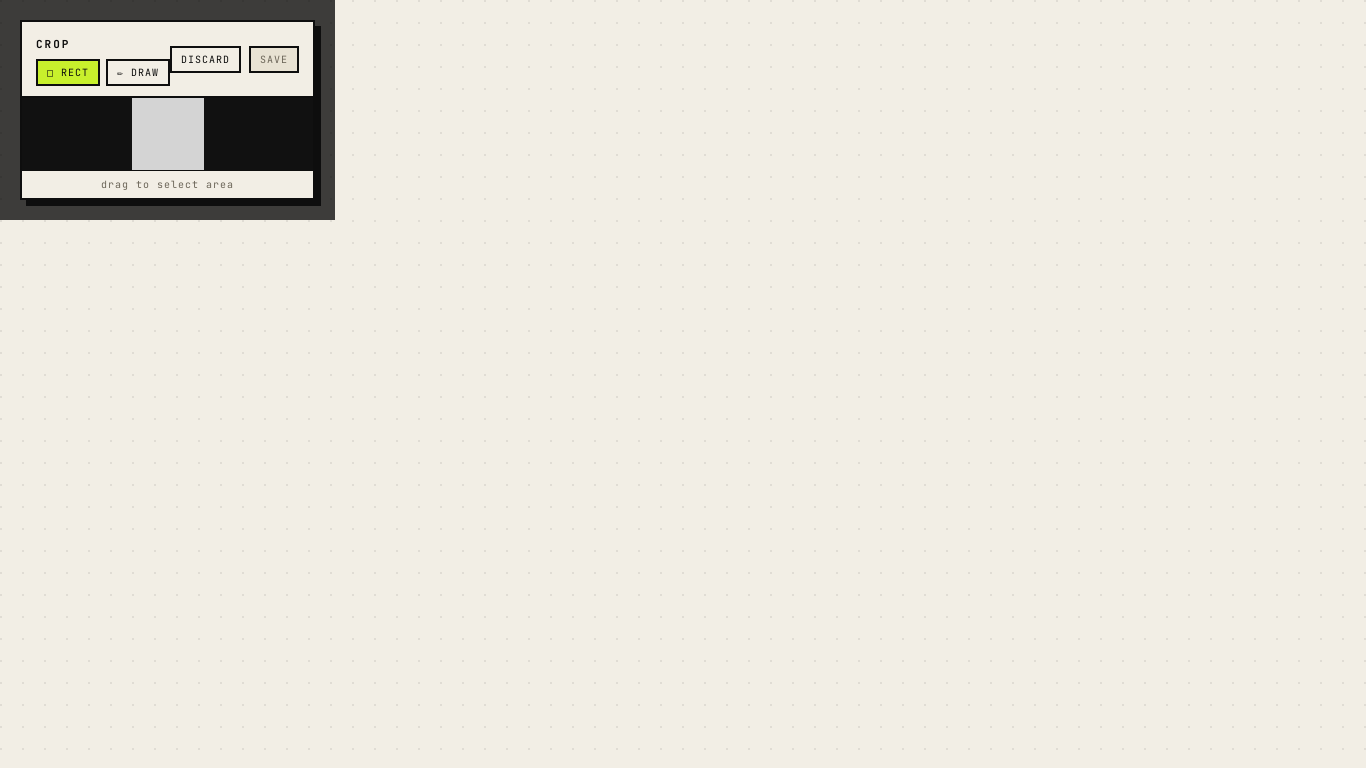
Test: CropModal › shows shape ready hint after finishing lasso with enough points
This screenshot has width=1366, height=768.
Click the button "✏ DRAW": (138, 72) [106,59,170,86]
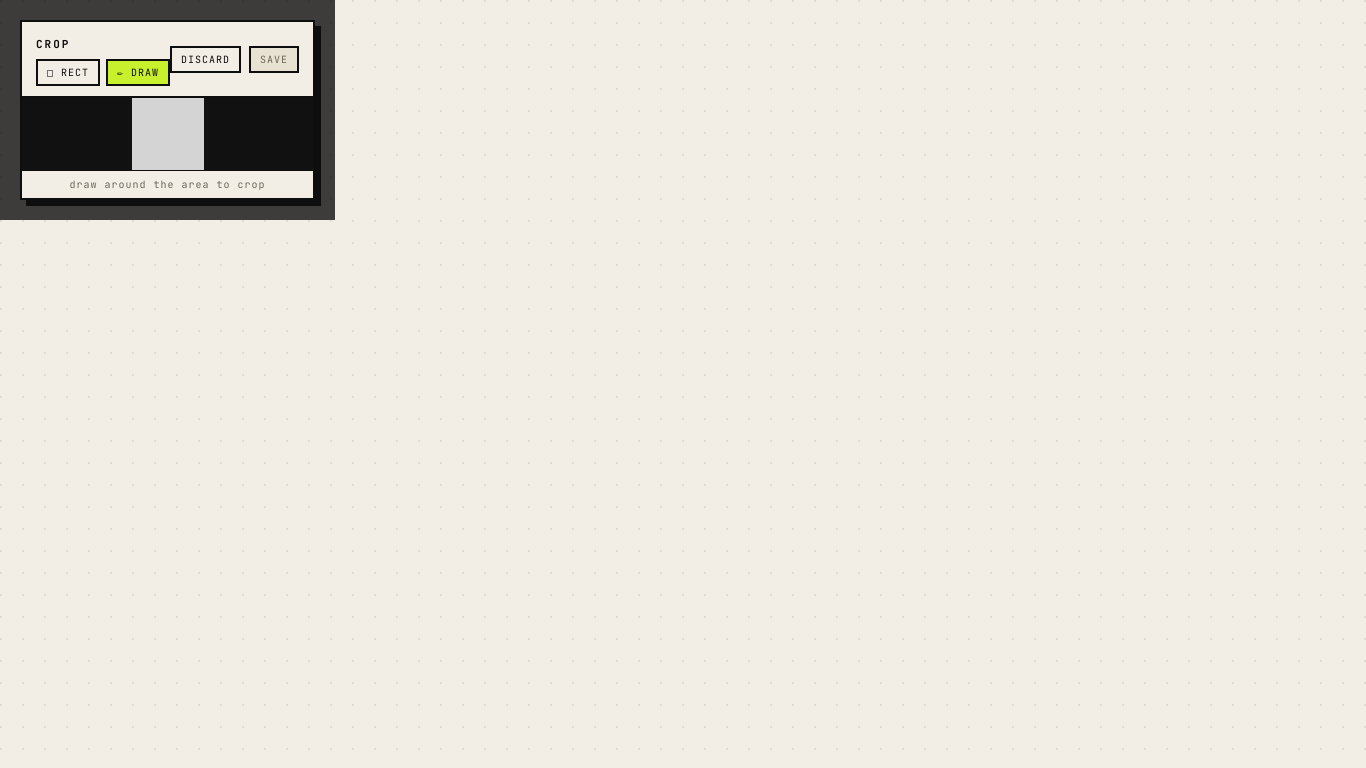
Press the mouse on the element with class "crop-area": (168, 134) [22,98,313,170]
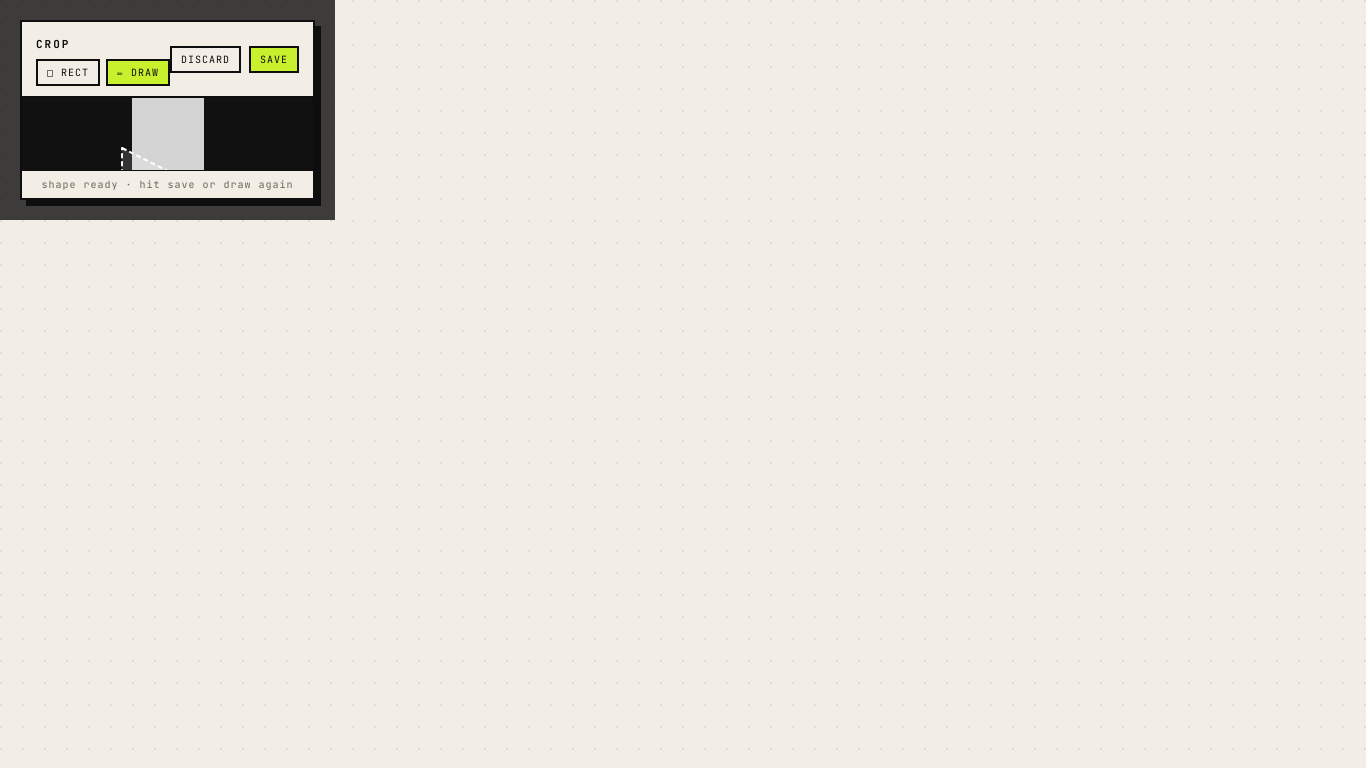
Expected: the text "shape ready · hit save or draw again" is shown, [22,170,313,198]
